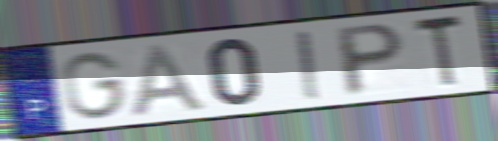0: (205, 36, 263, 109)
A: (129, 42, 211, 119)
G: (59, 50, 130, 122)
I: (293, 28, 325, 102)
P: (335, 20, 408, 99)
T: (411, 11, 466, 92)
